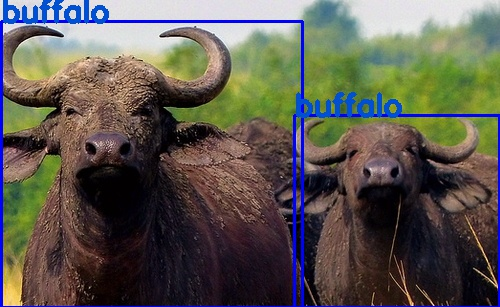buffalo: (1, 21, 302, 307), (294, 114, 499, 306)
